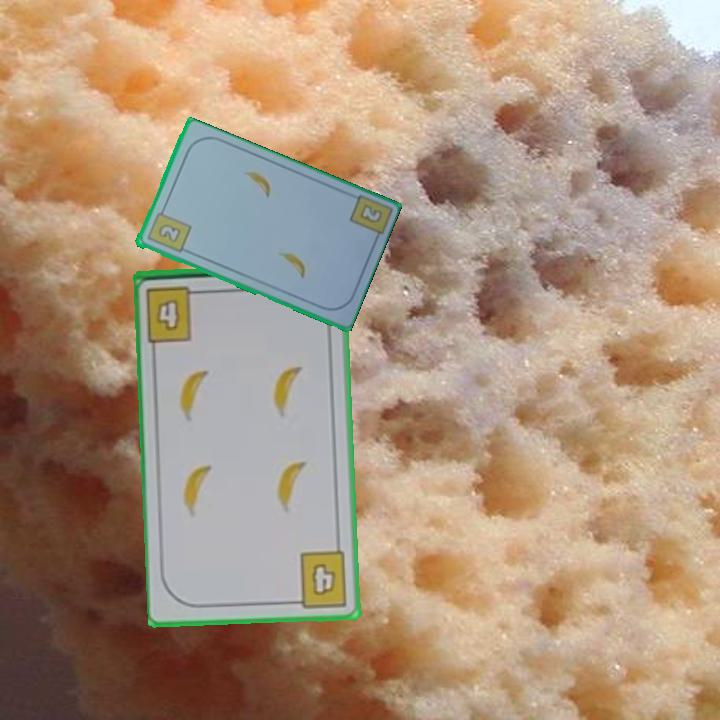2b: (143, 204, 194, 256), (356, 201, 385, 226)
4b: (143, 282, 208, 345), (288, 548, 350, 610)
